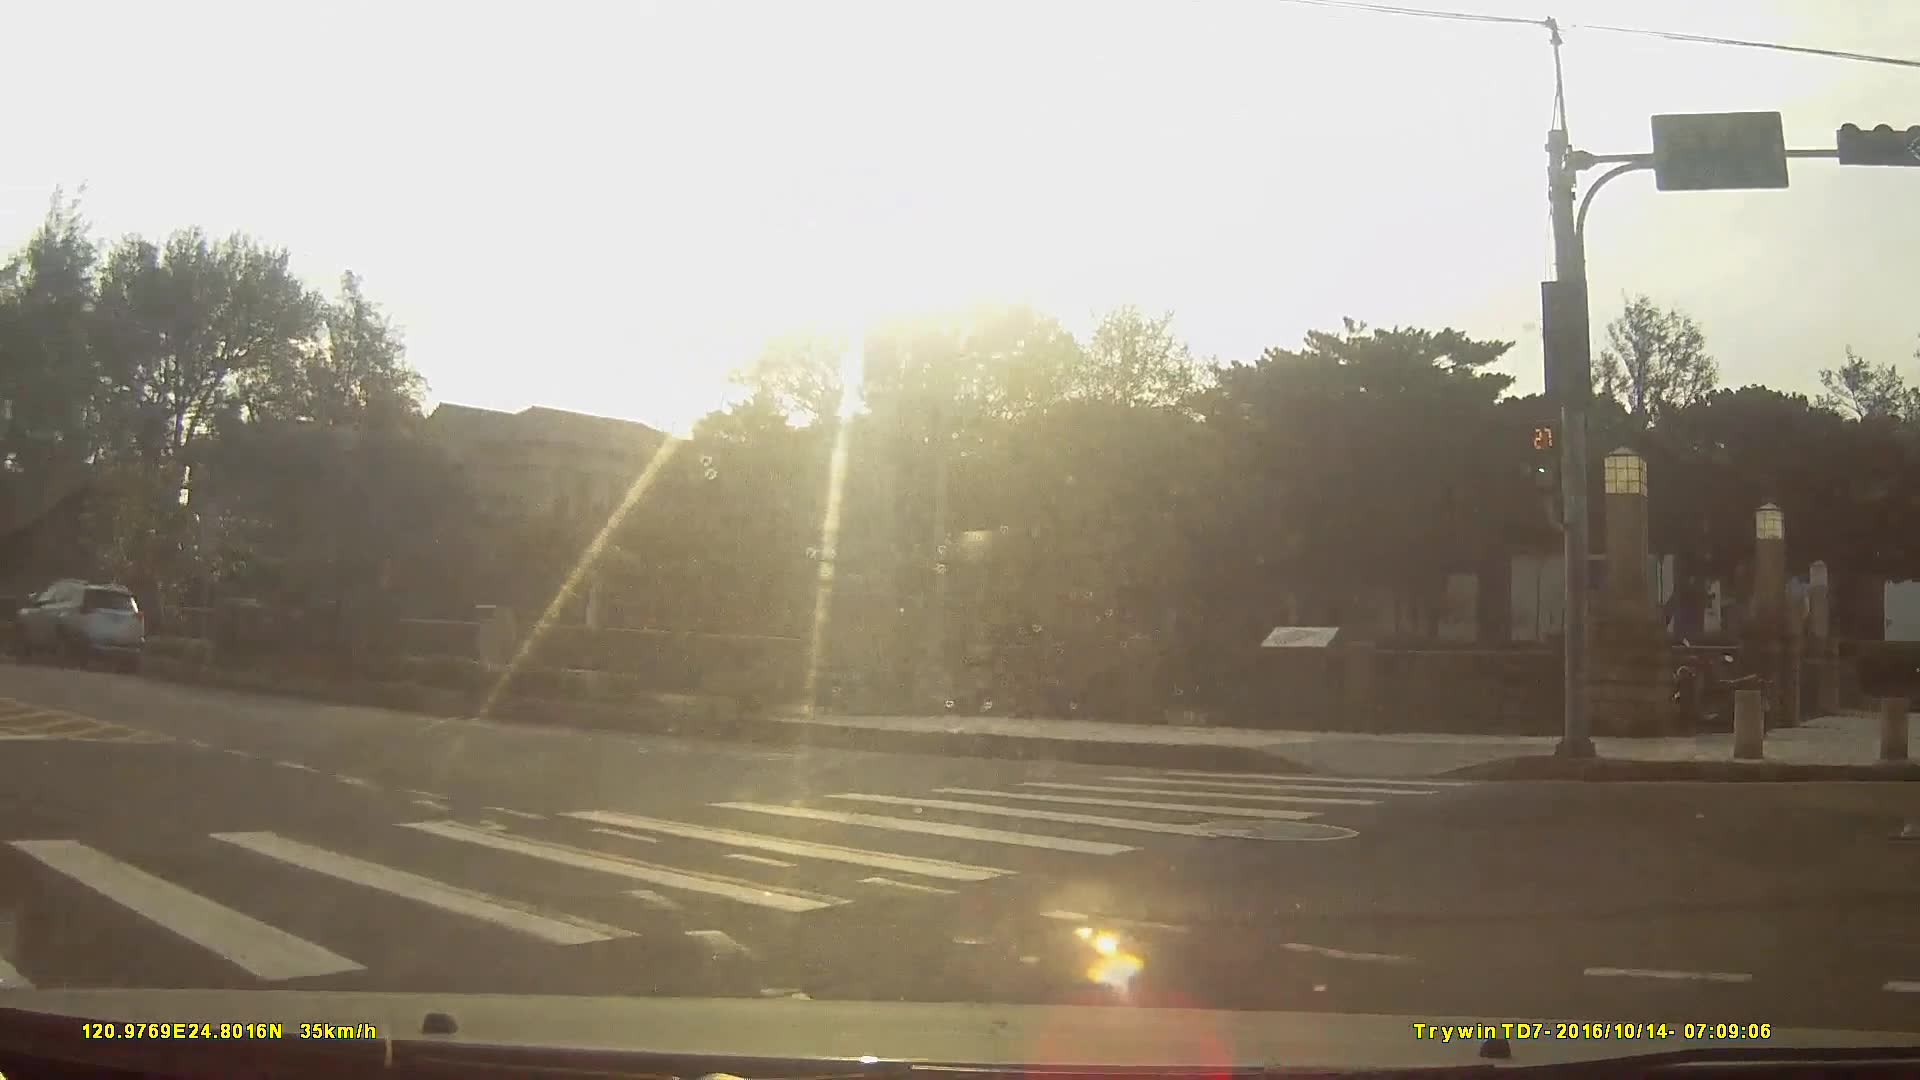vehicle: (15, 575, 142, 669)
